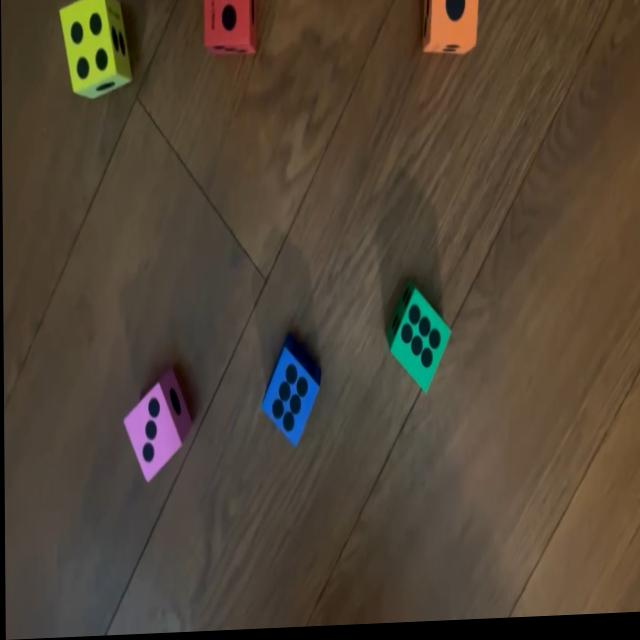blue_block: (261, 344, 319, 452)
red_block: (202, 0, 257, 61)
